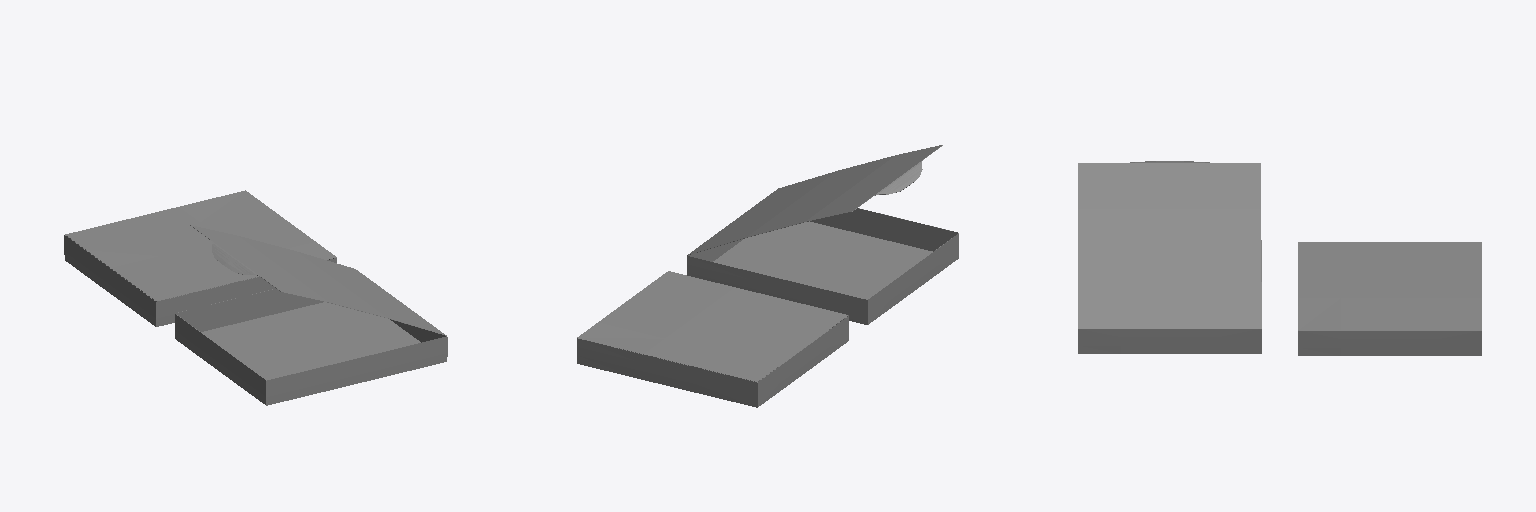
File: Pizzareal.obj
3 renders of one model, left to right at view 1: azimuth 30°, elevation 25°; view 2: azimuth 150°, elevation 25°; view 3: azimuth 270°, elevation 25°, orthographic.
Parts seen in each view (by area): view 1: Pizza_3d_m, Pizza_3d_0; view 2: Pizza_3d_m, Pizza_3d_0; view 3: Pizza_3d_m, Pizza_3d_0.
Boxes of the visible parts, x1=… form: Pizza_3d_m: x1=175, y1=225, x2=447, y2=405; Pizza_3d_0: x1=64, y1=190, x2=336, y2=326; Pizza_3d_m: x1=687, y1=145, x2=958, y2=324; Pizza_3d_0: x1=577, y1=271, x2=848, y2=407; Pizza_3d_m: x1=1078, y1=161, x2=1261, y2=353; Pizza_3d_0: x1=1298, y1=242, x2=1481, y2=355.
Size of the model in its own units: 1.6 by 0.9444 by 3.09.